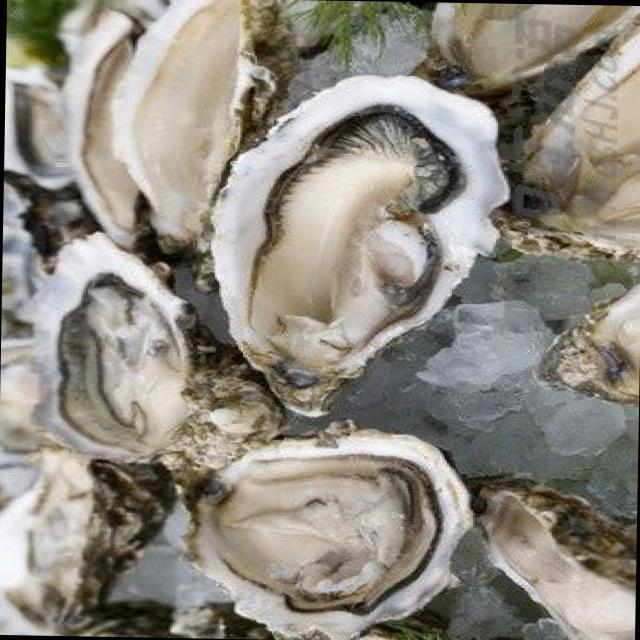Oyster-Open: (202, 70, 518, 427), (172, 419, 474, 640), (28, 232, 285, 474), (114, 0, 295, 251), (491, 3, 640, 263), (0, 451, 173, 637), (464, 470, 637, 640), (62, 6, 154, 249), (422, 1, 640, 95), (532, 281, 640, 407), (2, 69, 76, 187)
